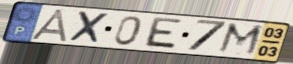0: (113, 15, 145, 46)
7: (188, 18, 230, 54)
A: (28, 8, 71, 44)
E: (141, 16, 185, 51)
M: (215, 21, 266, 58)
X: (66, 10, 111, 45)
